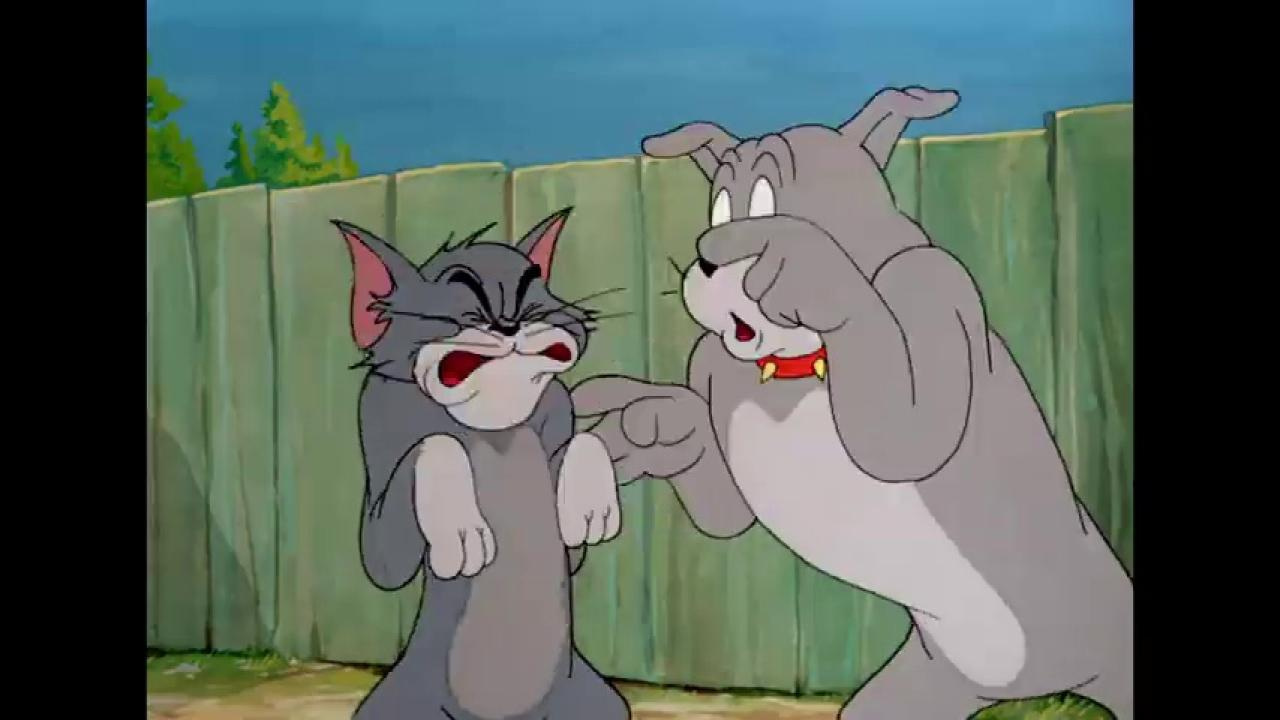Tom: (330, 214, 634, 720)
